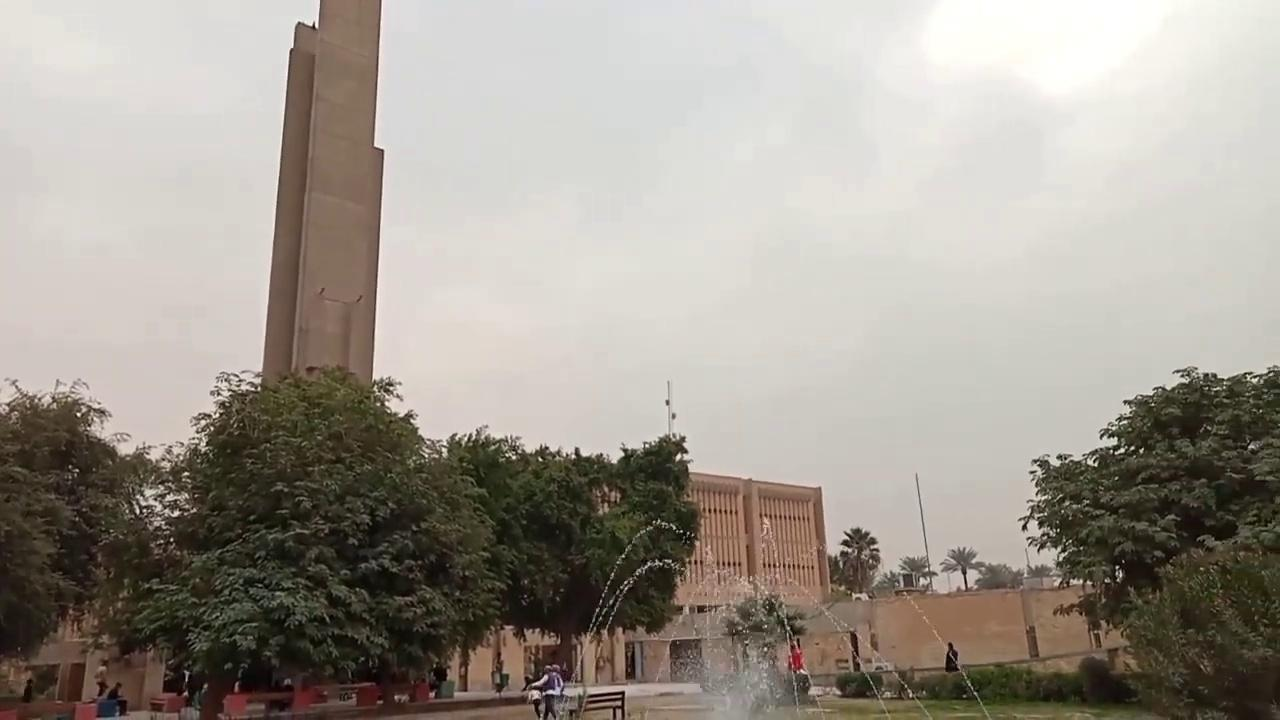car: (874, 663, 892, 671)
fountain: (546, 517, 950, 718)
person: (107, 681, 127, 716), (788, 638, 805, 674), (93, 657, 108, 697), (944, 641, 959, 673), (21, 678, 34, 702)
tree: (133, 362, 504, 712), (1018, 362, 1278, 717), (491, 434, 696, 693), (0, 375, 157, 664), (1113, 536, 1279, 718), (721, 590, 809, 706), (837, 525, 881, 596), (939, 545, 982, 590), (897, 554, 936, 589), (974, 562, 1016, 589)
